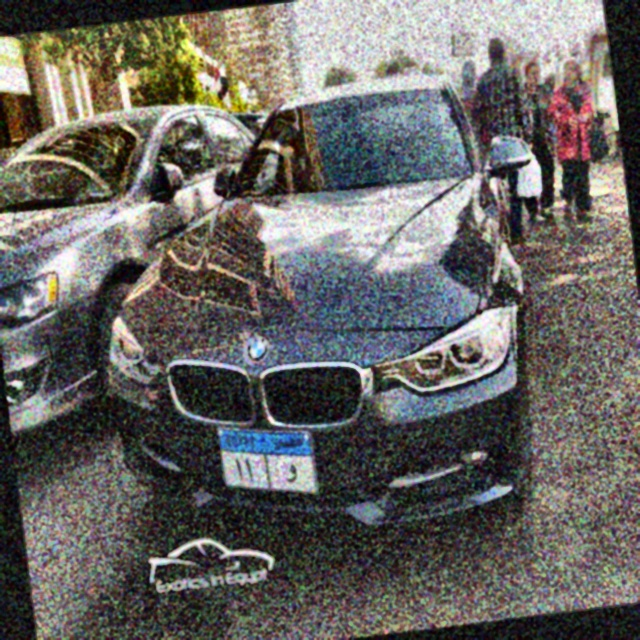License Plate: (215, 414, 320, 509)
